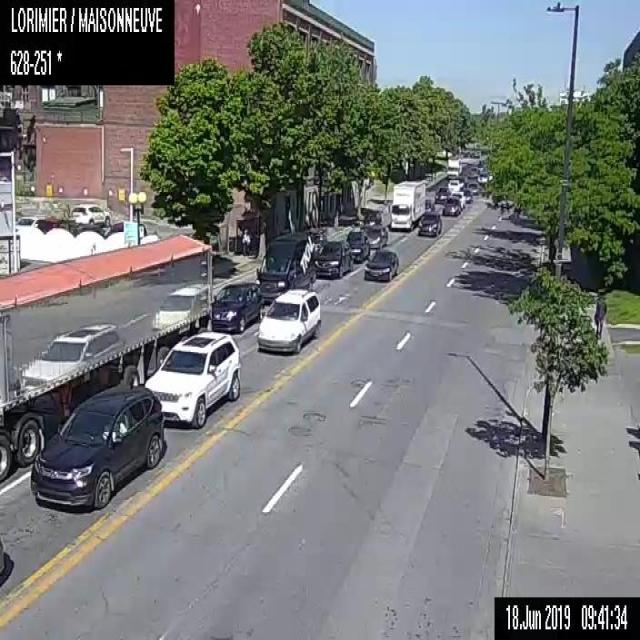pedestrian: (593, 293, 606, 339)
vehicle: (0, 235, 213, 484), (30, 384, 164, 510), (141, 330, 239, 427), (253, 232, 316, 303), (256, 288, 320, 352), (213, 280, 263, 332), (390, 180, 424, 230), (315, 239, 353, 278), (364, 248, 398, 281), (72, 203, 110, 226), (346, 229, 370, 262), (358, 209, 390, 231), (362, 220, 386, 248), (418, 213, 440, 237), (446, 154, 464, 178), (15, 214, 44, 226), (442, 196, 460, 214), (433, 186, 450, 202), (450, 190, 464, 208), (424, 191, 434, 212), (0, 534, 5, 574), (448, 178, 462, 190), (462, 188, 472, 202)
